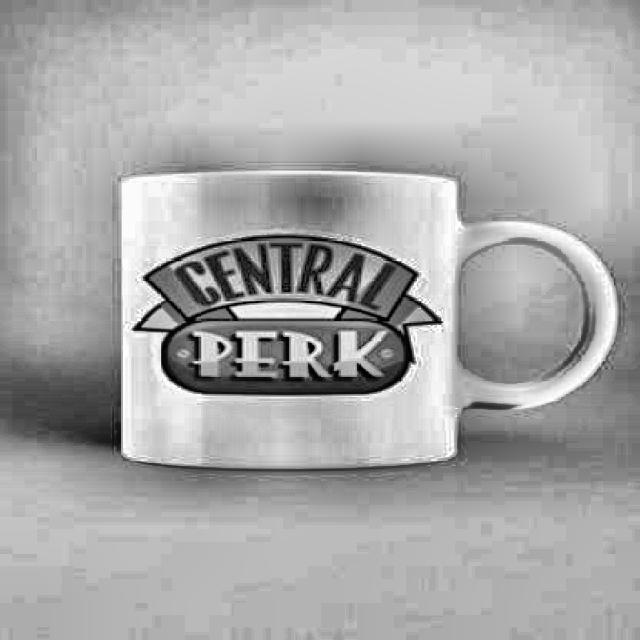Mug: (117, 171, 618, 474)
